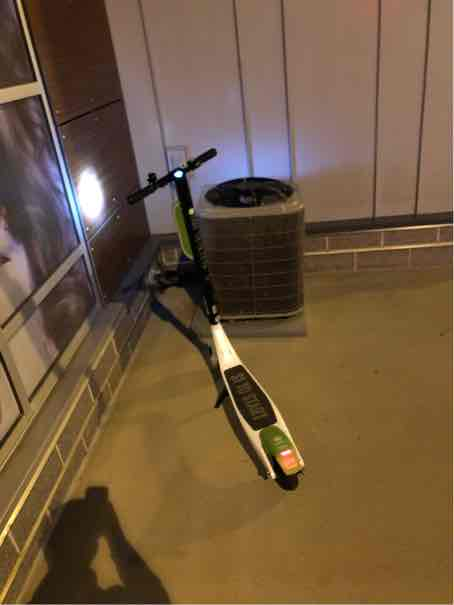scooter: (117, 137, 314, 513)
